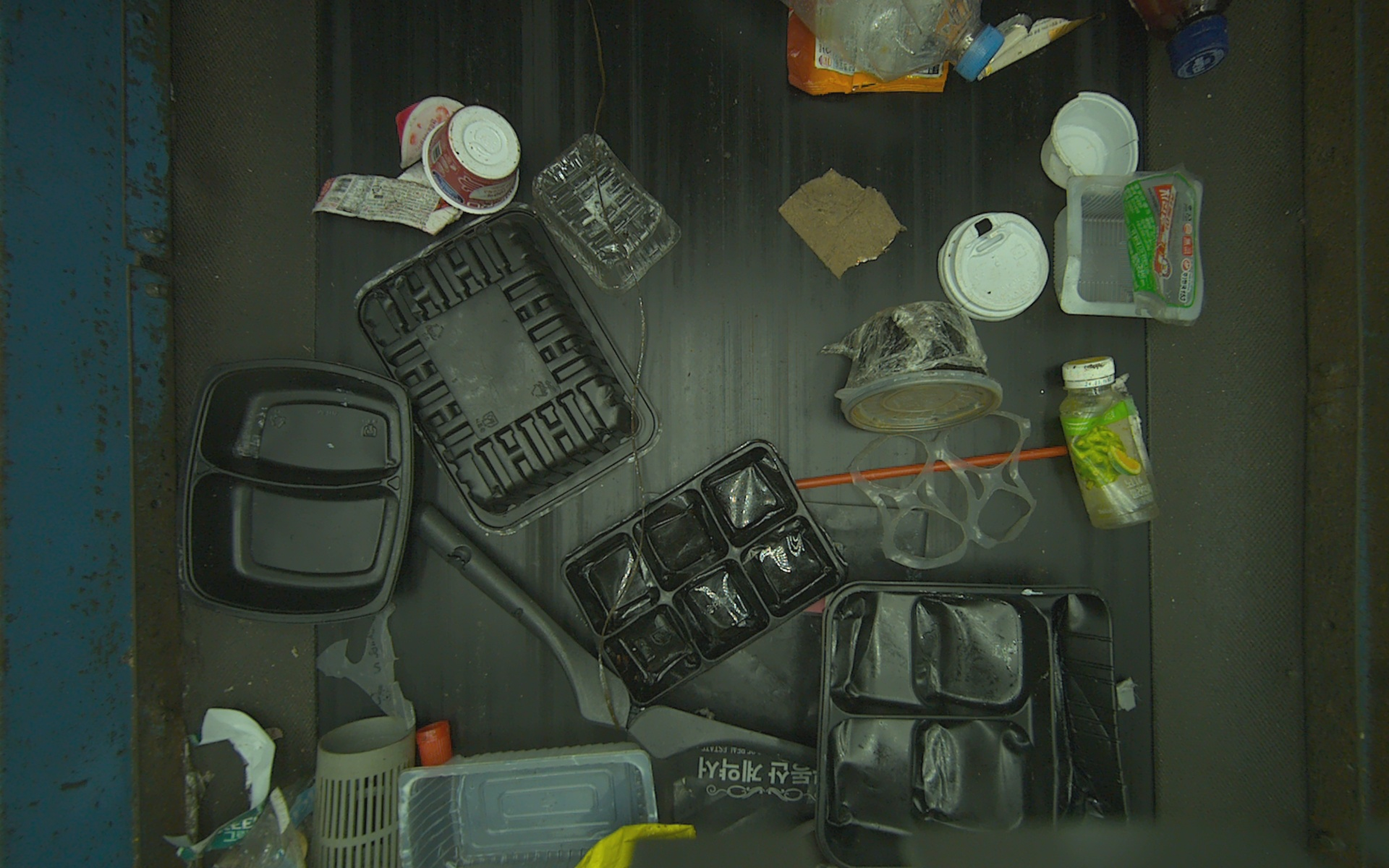PET: (1060, 355, 1163, 530)
PET-C: (531, 132, 684, 293)
PP-B: (354, 206, 660, 531), (813, 580, 1133, 868), (179, 357, 416, 626)
PS-W: (938, 212, 1050, 323), (420, 105, 520, 216), (1040, 90, 1139, 189)
